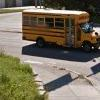buses: (19, 9, 100, 53)
